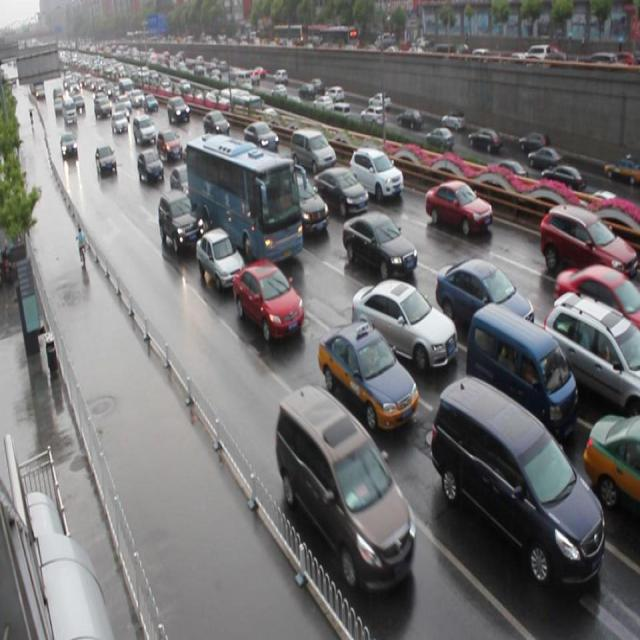car: (540, 294, 640, 422), (317, 326, 416, 435), (350, 282, 456, 378), (537, 201, 640, 288), (434, 261, 532, 340), (554, 261, 640, 339), (580, 415, 640, 522), (231, 263, 304, 344), (341, 209, 417, 277), (424, 177, 493, 237), (275, 177, 329, 240), (348, 145, 403, 202), (196, 226, 245, 287), (158, 188, 204, 252), (313, 166, 368, 217), (243, 119, 278, 154), (170, 162, 193, 199)
truck: (432, 380, 602, 590), (274, 383, 416, 588), (464, 306, 572, 443), (290, 126, 335, 172)
van: (186, 136, 302, 268)
